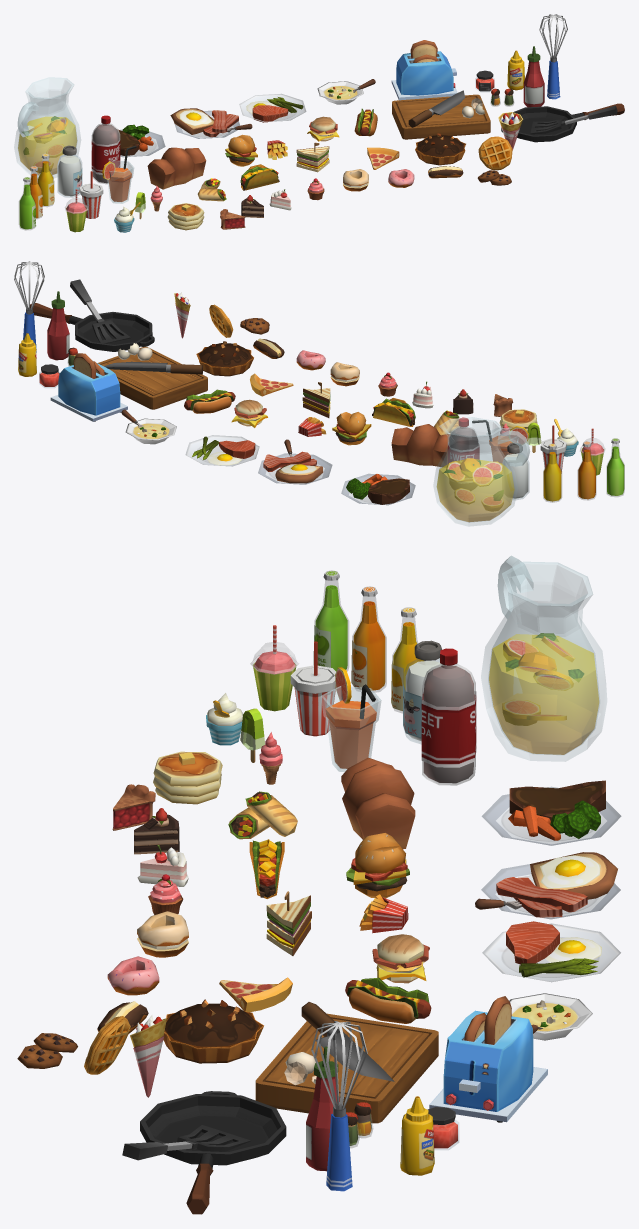
The model's file is 3D_Props_-_Food_25_Set2-4d0e3650.glb.
3 views of the same model, one above another, from view 1: azimuth 30°, elevation 25°; view 2: azimuth 150°, elevation 25°; view 3: azimuth 270°, elevation 25° (orthographic). The views are drawn at different scales.
Parts seen in each view (by area): view 1: lemon juice_Material #305_0, board_Material #280_0, toaster_Material #325_0, bread_Material #168_0, egg bacon_02 - Default_0, frying pan_Material #298_0, salmon_Material #306_0, cola_Material #184_0, chocolate pie_Material #183_0, steak_Material #251_0, hand mixer_Material #299_0, milk_Material #220_0 (+35 smaller); view 2: lemon juice_Material #305_0, board_Material #280_0, toaster_Material #325_0, frying pan_Material #298_0, bread_Material #168_0, egg bacon_02 - Default_0, steak_Material #251_0, salmon_Material #306_0, lemon juice_Material #304_0, chocolate pie_Material #183_0, cola_Material #184_0, milk_Material #220_0 (+32 smaller); view 3: lemon juice_Material #305_0, board_Material #280_0, toaster_Material #325_0, frying pan_Material #298_0, egg bacon_02 - Default_0, steak_Material #251_0, cola_Material #184_0, salmon_Material #306_0, chocolate pie_Material #183_0, bread_Material #168_0, hand mixer_Material #299_0, lemon juice_Material #304_0 (+36 smaller).
Part boxes in pixels (x1,y1,x2,y2): lemon juice_Material #305_0: (14,77,80,177); board_Material #280_0: (392,94,490,139); toaster_Material #325_0: (391,51,457,100); bread_Material #168_0: (147,147,206,189); egg bacon_02 - Default_0: (170,108,239,138); frying pan_Material #298_0: (501,103,624,142); salmon_Material #306_0: (239,93,306,122); cola_Material #184_0: (91,115,120,182); chocolate pie_Material #183_0: (415,133,465,165); steak_Material #251_0: (117,124,165,157); hand mixer_Material #299_0: (539,14,567,99); milk_Material #220_0: (58,145,82,196); lemon juice_Material #305_0: (433,417,529,526); board_Material #280_0: (97,346,207,409); toaster_Material #325_0: (50,361,127,421); frying pan_Material #298_0: (30,303,154,351); bread_Material #168_0: (391,424,450,466); egg bacon_02 - Default_0: (258,451,332,484); steak_Material #251_0: (341,473,415,505); salmon_Material #306_0: (185,435,259,466); lemon juice_Material #304_0: (443,458,503,511); chocolate pie_Material #183_0: (196,341,253,376); cola_Material #184_0: (448,417,479,490); milk_Material #220_0: (502,443,528,498); lemon juice_Material #305_0: (481,555,606,761); board_Material #280_0: (255,1013,438,1123); toaster_Material #325_0: (429,1010,547,1122); frying pan_Material #298_0: (140,1091,286,1214); egg bacon_02 - Default_0: (481,852,620,919); steak_Material #251_0: (481,780,621,845); cola_Material #184_0: (421,648,476,783); salmon_Material #306_0: (482,921,620,982); chocolate pie_Material #183_0: (163,999,263,1063); bread_Material #168_0: (341,757,415,849); hand mixer_Material #299_0: (311,1021,367,1191); lemon juice_Material #304_0: (502,633,584,725).
Size of the model in its own units: 923 by 128 by 424.
Materials: 57 (57 with a texture image).
